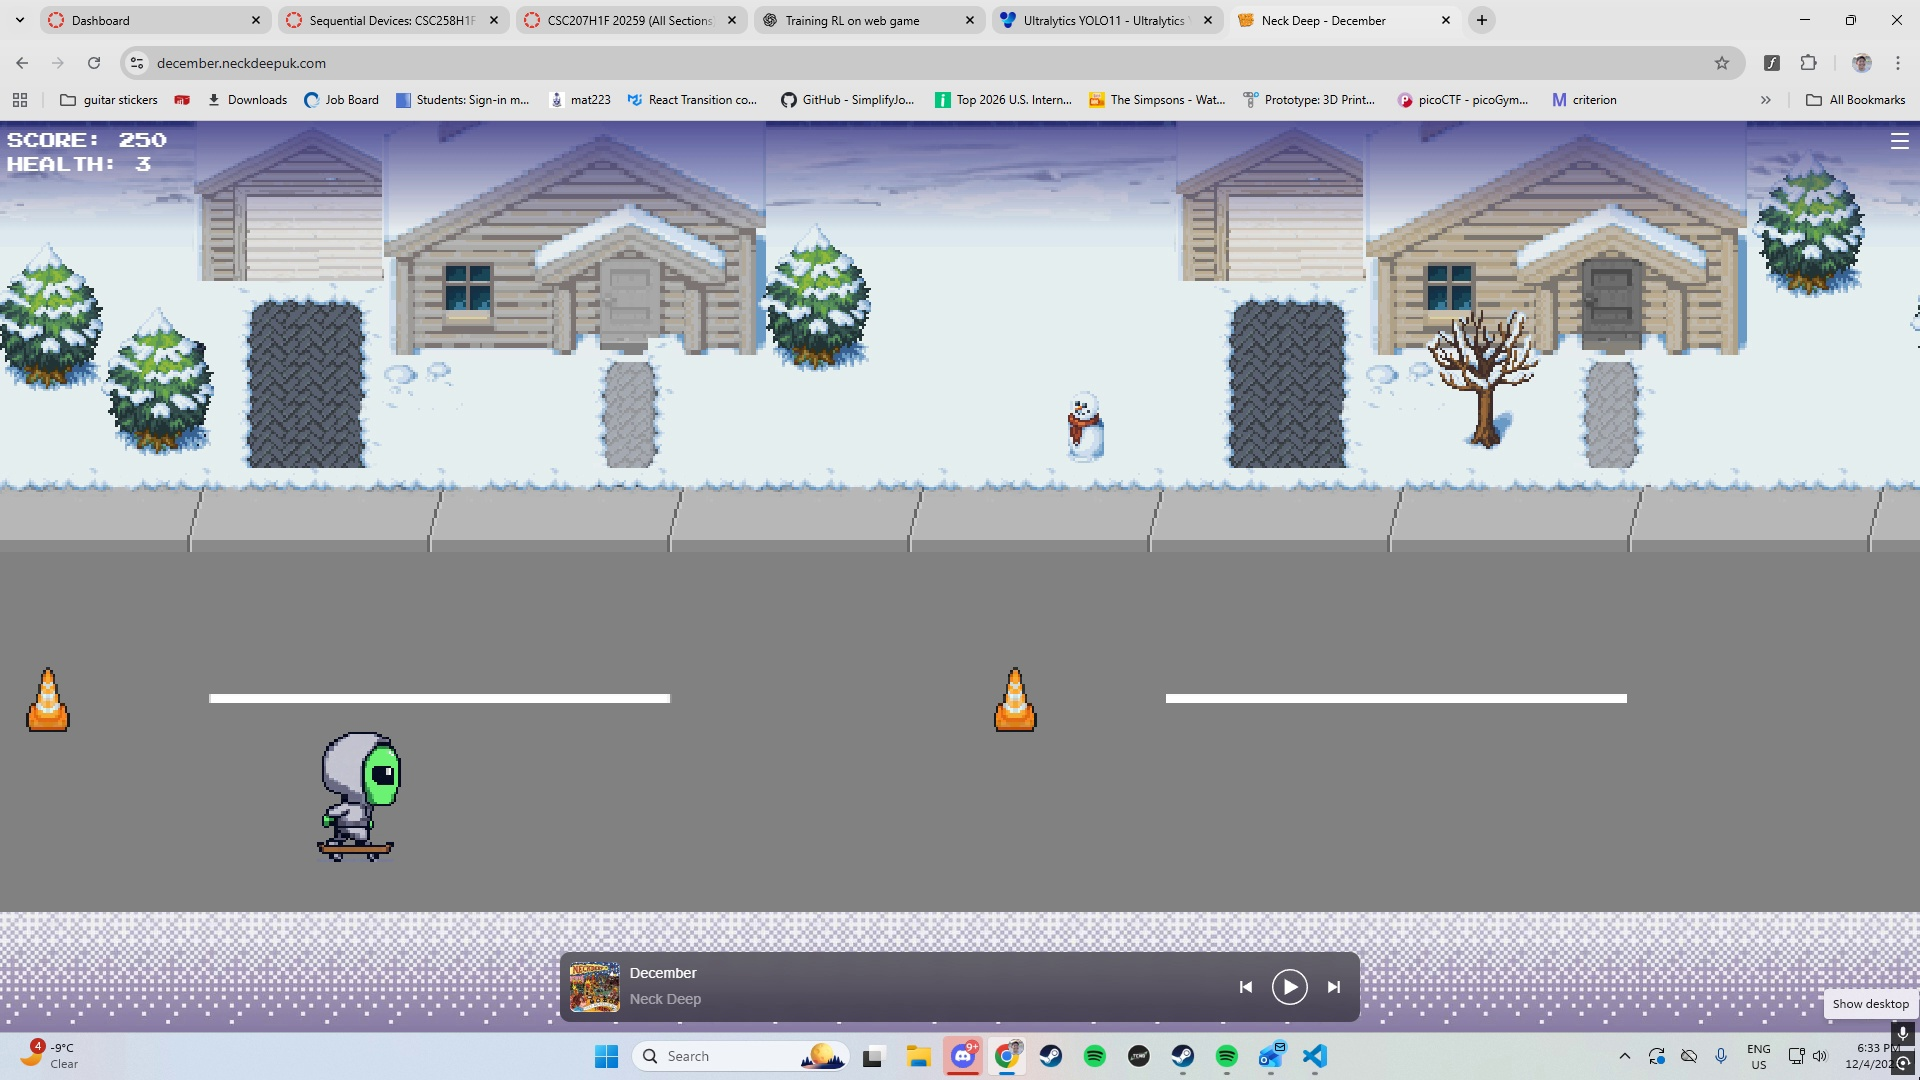Cone: (21, 662, 76, 739), (989, 661, 1042, 739)
Player: (312, 726, 407, 869)
